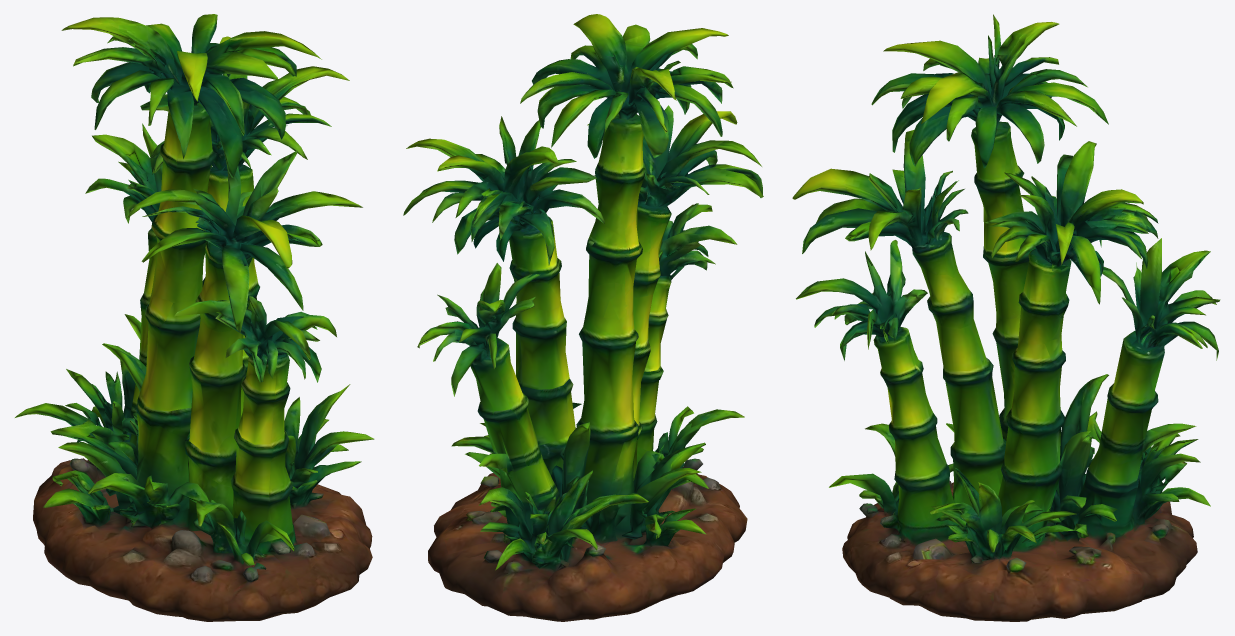
The model's file is bamboo.glb.
3 renders of one model, left to right at view 1: azimuth 30°, elevation 25°; view 2: azimuth 150°, elevation 25°; view 3: azimuth 270°, elevation 25°, orthographic. The views are drawn at different scales.
Visible parts, largest first — view 1: tripo_node_e261f41e-febd-4202-9514-f42c4dc07817; view 2: tripo_node_e261f41e-febd-4202-9514-f42c4dc07817; view 3: tripo_node_e261f41e-febd-4202-9514-f42c4dc07817.
Part boxes in pixels (<box>): tripo_node_e261f41e-febd-4202-9514-f42c4dc07817: <box>15,14,374,621</box>; tripo_node_e261f41e-febd-4202-9514-f42c4dc07817: <box>403,14,763,621</box>; tripo_node_e261f41e-febd-4202-9514-f42c4dc07817: <box>792,14,1220,621</box>.
Bounding box in the file's own units: 0.605 × 0.9997 × 0.7759.
Materials: 1 (1 with a texture image).
